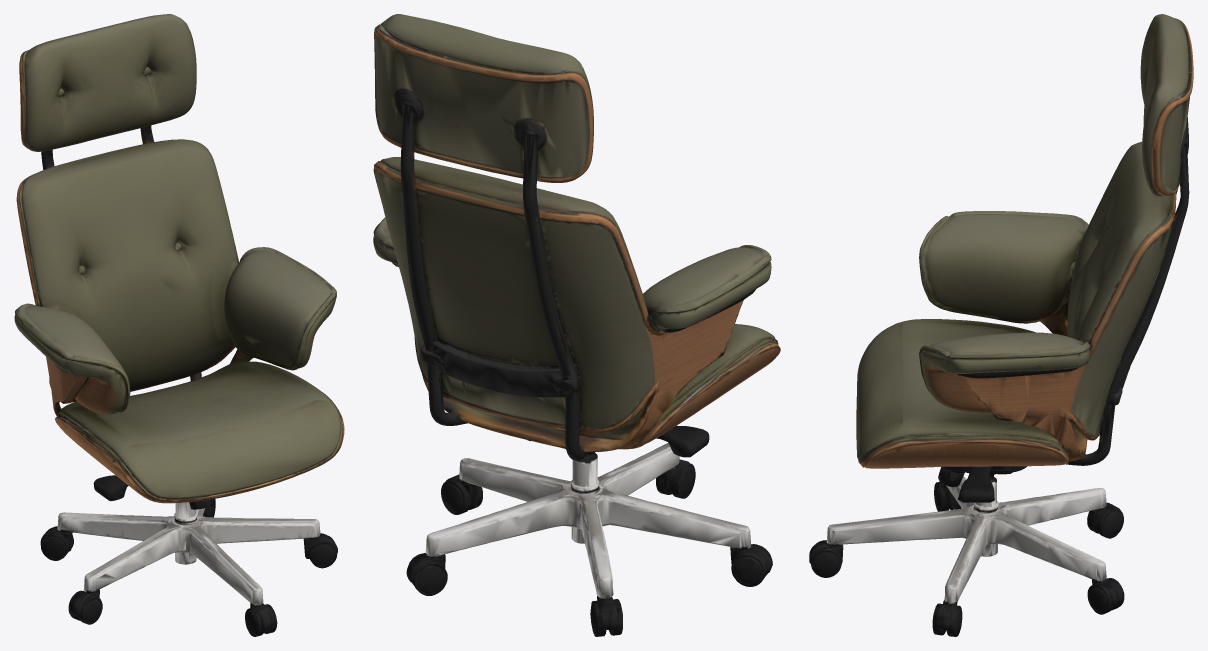
Rendered from office-chair-GZPQ9lji.glb.
3 renders of one model, left to right at view 1: azimuth 30°, elevation 25°; view 2: azimuth 150°, elevation 25°; view 3: azimuth 270°, elevation 25°, orthographic. The views are drawn at different scales.
Visible parts, largest first — view 1: node_0; view 2: node_0; view 3: node_0.
Part boxes in pixels (x1,y1,x2,y2): node_0: (14, 14, 344, 636); node_0: (373, 14, 780, 636); node_0: (809, 14, 1193, 636).
Bounding box in the file's own units: 0.6031 × 1.01 × 0.6702.
Materials: 1 (1 with a texture image).
